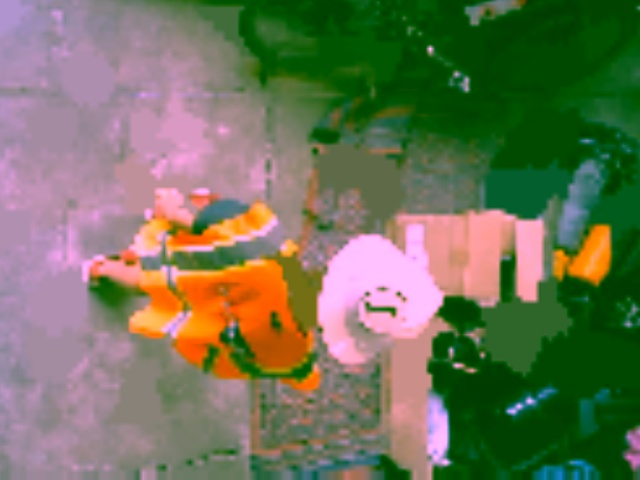one: (360, 288, 407, 331)
